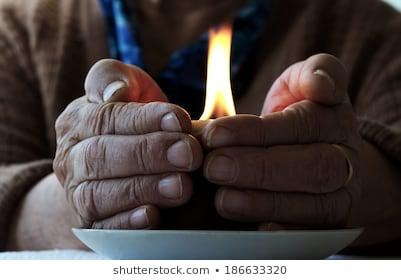fire: (196, 22, 234, 119)
